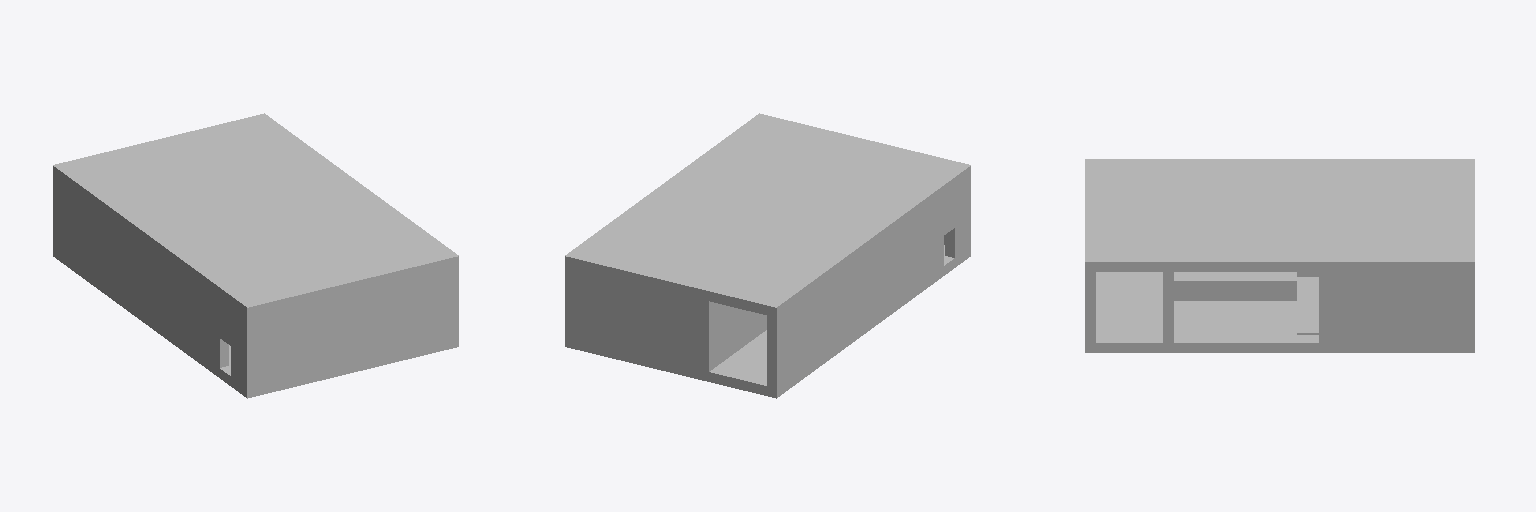
The model's file is unionB_roof.obj.
3 views of the same model, side by side, from view 1: azimuth 30°, elevation 25°; view 2: azimuth 150°, elevation 25°; view 3: azimuth 270°, elevation 25° (orthographic).
Parts seen in each view (by area): view 1: object 1; view 2: object 1; view 3: object 1.
Part boxes in pixels (left/top/right/bottom): object 1: left=53, top=113, right=458, bottom=398; object 1: left=565, top=113, right=970, bottom=398; object 1: left=1085, top=159, right=1474, bottom=352.
Bounding box in the file's own units: 13.2 × 5.4 × 21.